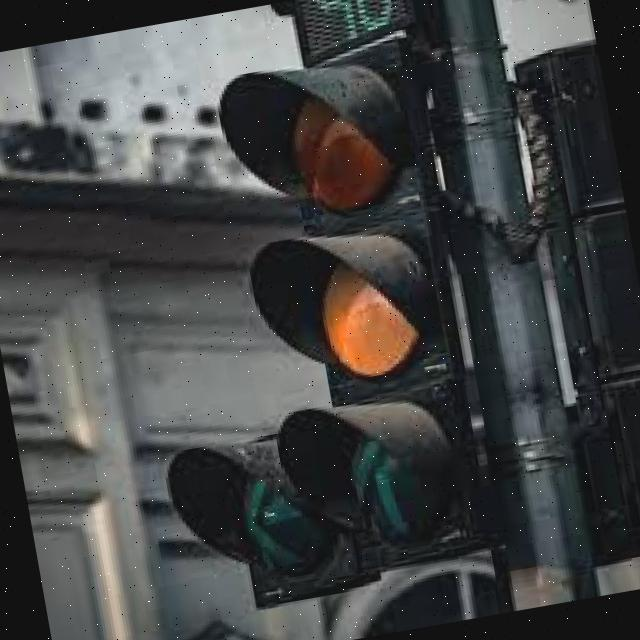yellow_light: (211, 42, 509, 567)
